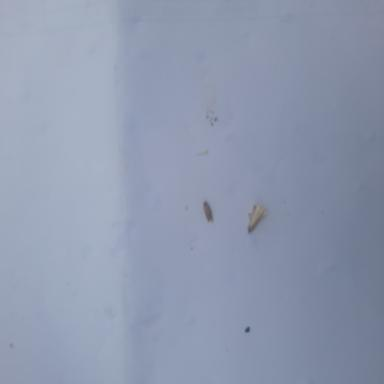pbw: (246, 205, 268, 232), (204, 202, 214, 222)
